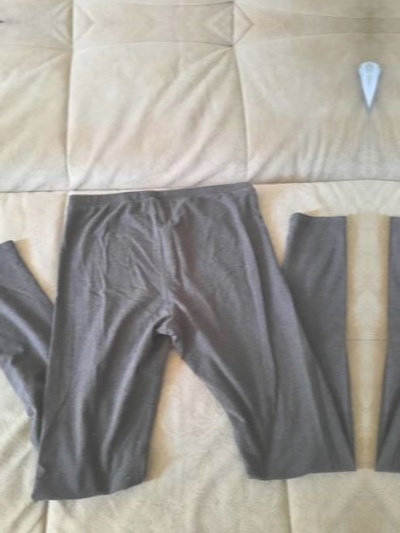Pants: (0, 156, 369, 504), (366, 160, 400, 508)
